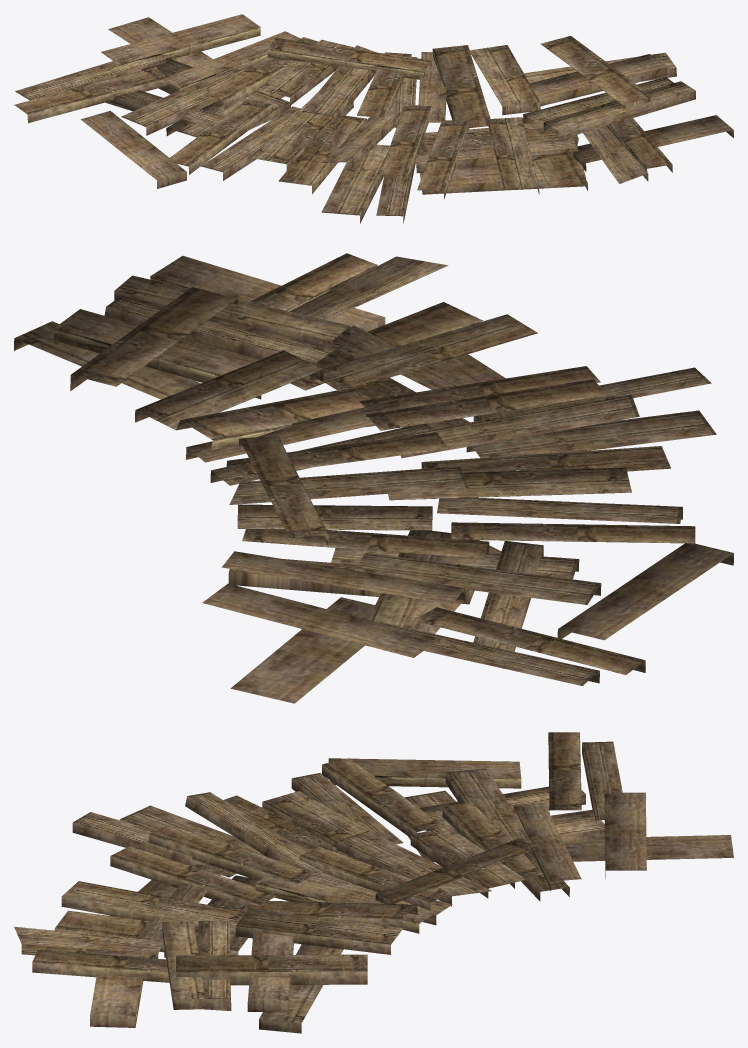
The model's file is S_Build_West047_2.FBX.
3 renders of one model, top to bottom at view 1: azimuth 30°, elevation 25°; view 2: azimuth 150°, elevation 25°; view 3: azimuth 270°, elevation 25°, orthographic. The views are drawn at different scales.
Parts seen in each view (by area): view 1: S_Build_West047_2; view 2: S_Build_West047_2; view 3: S_Build_West047_2.
Boxes of the visible parts, x1=… form: S_Build_West047_2: x1=14, y1=14, x2=733, y2=223; S_Build_West047_2: x1=14, y1=253, x2=733, y2=703; S_Build_West047_2: x1=14, y1=732, x2=733, y2=1033.
Bounding box in the file's own units: 1055 × 1061 × 85.85.
